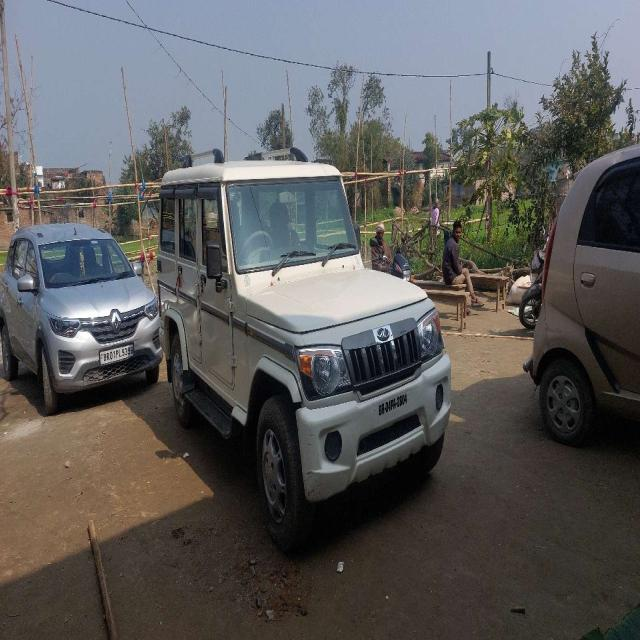light_vehicle: (160, 166, 450, 477)
